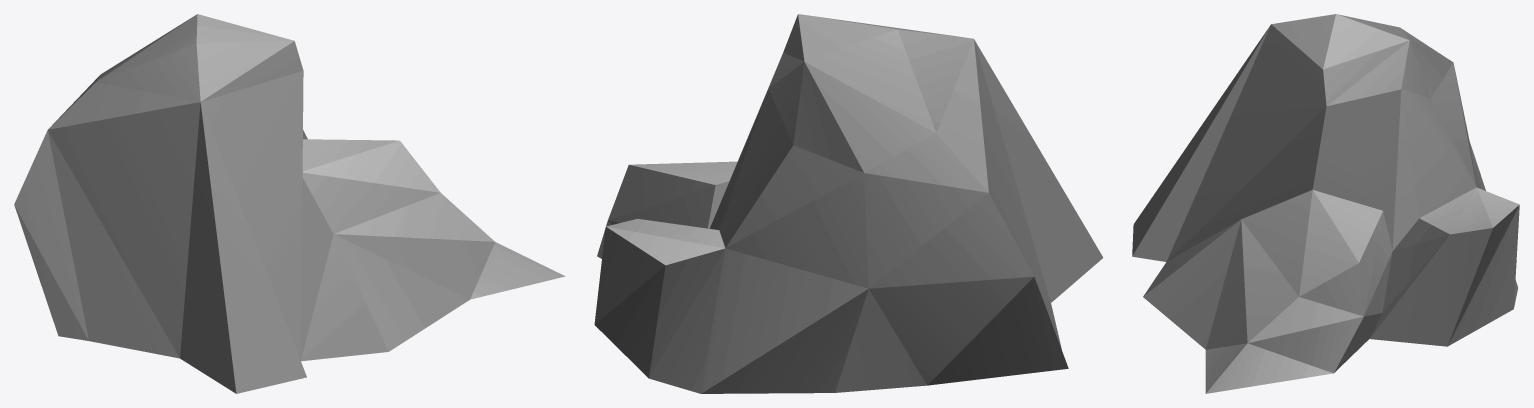
The model's file is GL-Rock-06-LOD2.fbx.
The picture shows the model from 3 angles, left to right: view 1: azimuth 30°, elevation 25°; view 2: azimuth 150°, elevation 25°; view 3: azimuth 270°, elevation 25°; orthographic projection. The views are drawn at different scales.
Visible parts, largest first — view 1: GL_Rock_06; view 2: GL_Rock_06; view 3: GL_Rock_06.
Boxes of the visible parts, x1,y1,x2,y2 form: GL_Rock_06: (14, 14, 565, 393); GL_Rock_06: (594, 14, 1103, 393); GL_Rock_06: (1132, 14, 1519, 393).
Bounding box in the file's own units: 9.41 × 5.11 × 7.43.
